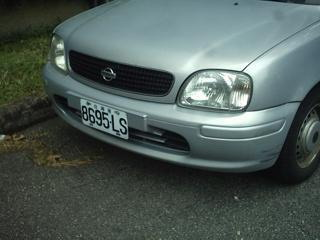plate: (78, 96, 130, 141)
